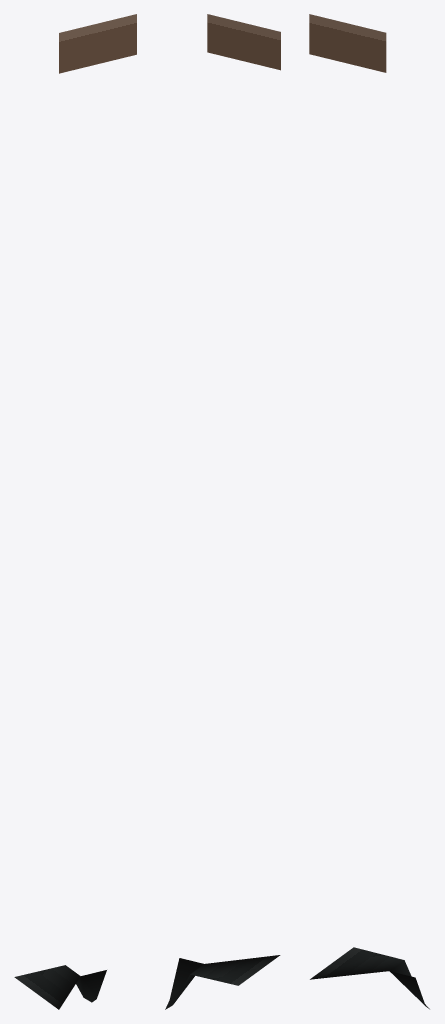
3 renders of one model, left to right at view 1: azimuth 30°, elevation 25°; view 2: azimuth 150°, elevation 25°; view 3: azimuth 330°, elevation 25°, orthographic. The views are drawn at different scales.
Size of the model in its own units: 0.5 by 6.27 by 0.5.
2 materials, 2 textured.
